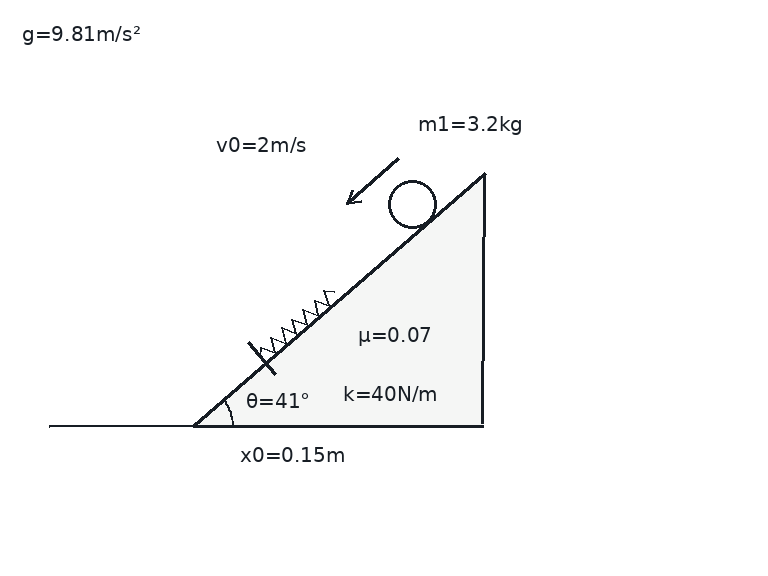ball: (386, 178, 438, 230)
ramp: (191, 172, 485, 428)
spring: (258, 288, 337, 358)
